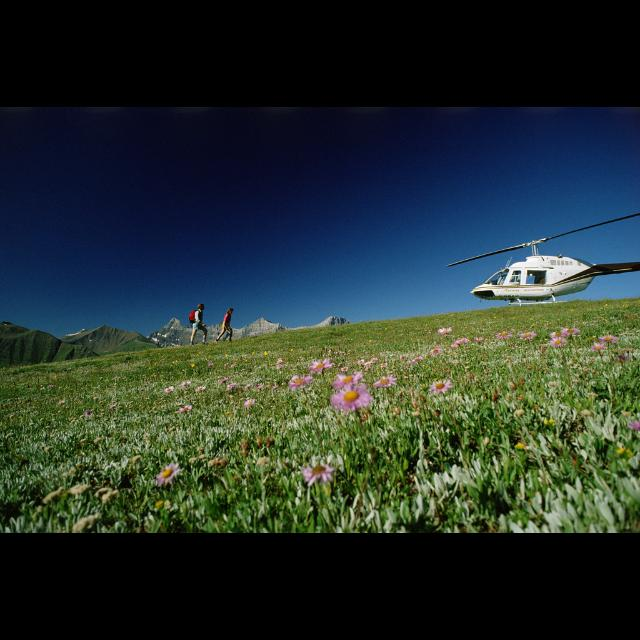Flower: (328, 376, 372, 422), (548, 329, 578, 351), (70, 515, 102, 533), (154, 464, 176, 486), (308, 462, 328, 484), (44, 489, 62, 513), (310, 354, 332, 371), (96, 489, 116, 507), (430, 378, 450, 394), (373, 376, 397, 389), (288, 376, 310, 390), (357, 357, 378, 371), (68, 487, 92, 497), (516, 329, 536, 341), (180, 407, 192, 421), (437, 326, 451, 336), (452, 338, 466, 348), (404, 356, 421, 362), (626, 424, 640, 430), (603, 336, 613, 344), (432, 346, 440, 354), (194, 386, 200, 394), (228, 382, 236, 388), (245, 397, 251, 405), (592, 344, 604, 348), (85, 410, 91, 416), (342, 366, 348, 372), (60, 401, 64, 405), (110, 404, 114, 408), (168, 388, 172, 392), (222, 378, 226, 382), (381, 363, 385, 367), (476, 337, 480, 341), (247, 386, 250, 390), (258, 440, 260, 446), (210, 360, 212, 364), (277, 360, 281, 362), (185, 384, 188, 386), (232, 365, 232, 367), (500, 336, 510, 336)
